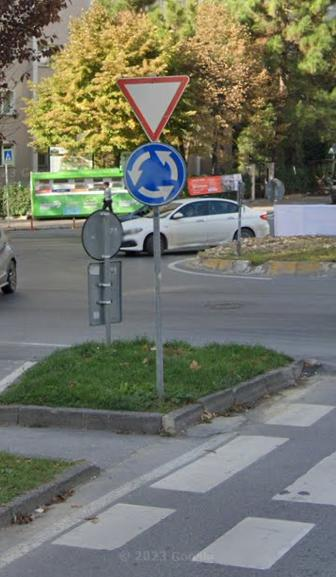crossroads: (129, 142, 186, 203)
